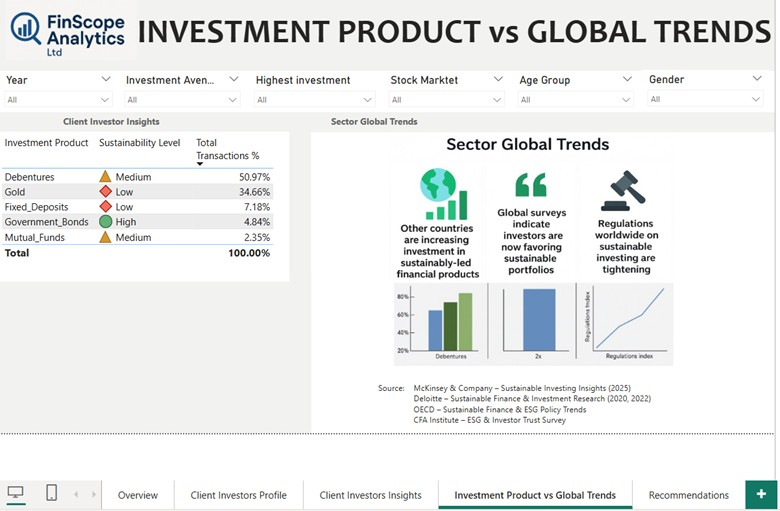

The page's visual inventory and layout, read from the dashboard file:
{"tool":"powerbi","page":{"name":"Investment Product vs Global Trends","canvas":[1280,720],"ordinal":3},"visuals":[{"type":"textbox","box":[0,0,1280,122.9],"z":0},{"type":"image","box":[0,0,301.4,110],"z":1000},{"type":"slicer","fields":{"Values":["finance_project finance_trends.Year"]},"box":[0,122.9,198.6,87.1],"z":2000},{"type":"slicer","fields":{"Values":["finance_project finance_trends.Highest_investment"]},"box":[411.4,122.9,220,77.1],"z":3000},{"type":"slicer","fields":{"Values":["finance_project finance_trends.Investment_Avenues"]},"box":[197.1,122.9,211.4,87.1],"z":4000},{"type":"slicer","fields":{"Values":["finance_project finance_trends.Stock_Marktet"]},"box":[632.9,122.9,211.4,77.1],"z":5000},{"type":"textbox","box":[0,455.7,515.7,264.3],"z":6000},{"type":"textbox","box":[0,190.5,1280,32.7],"z":7000},{"type":"slicer","fields":{"Values":["finance_project finance_trends.Age Group"]},"box":[845.7,122.9,211.4,67.1],"z":8000},{"type":"slicer","fields":{"Values":["finance_project finance_trends.gender"]},"box":[1060,121.4,211.4,68.6],"z":9000},{"type":"tableEx","fields":{"Values":["finance_project investment_products.Investment_Product","finance_project investment_products.Sustainability_Level","finance_project customer_investment.TotalTransactions"]},"box":[0,222.9,480,247.1],"z":10000},{"type":"textbox","box":[480,222.9,35.7,232.9],"z":11000},{"type":"image","box":[572.9,222.9,620,408.6],"z":12000},{"type":"textbox","box":[621.4,631.4,521.4,87.1],"z":13000}]}

Visuals, with their boxes on the page's 1280x720 design canvas (x1, y1, x2, y2). These are canvas units, not pixel positions in the 780x511 screenshot, which may show the page scaled, cropped or inside an application window:
textbox: {"x1": 0, "y1": 0, "x2": 1280, "y2": 123}
image: {"x1": 0, "y1": 0, "x2": 301, "y2": 110}
slicer - finance_project finance_trends.Year: {"x1": 0, "y1": 123, "x2": 199, "y2": 210}
slicer - finance_project finance_trends.Highest_investment: {"x1": 411, "y1": 123, "x2": 631, "y2": 200}
slicer - finance_project finance_trends.Investment_Avenues: {"x1": 197, "y1": 123, "x2": 408, "y2": 210}
slicer - finance_project finance_trends.Stock_Marktet: {"x1": 633, "y1": 123, "x2": 844, "y2": 200}
textbox: {"x1": 0, "y1": 456, "x2": 516, "y2": 720}
textbox: {"x1": 0, "y1": 190, "x2": 1280, "y2": 223}
slicer - finance_project finance_trends.Age Group: {"x1": 846, "y1": 123, "x2": 1057, "y2": 190}
slicer - finance_project finance_trends.gender: {"x1": 1060, "y1": 121, "x2": 1271, "y2": 190}
tableEx - finance_project investment_products.Investment_Product x finance_project investment_products.Sustainability_Level: {"x1": 0, "y1": 223, "x2": 480, "y2": 470}
textbox: {"x1": 480, "y1": 223, "x2": 516, "y2": 456}
image: {"x1": 573, "y1": 223, "x2": 1193, "y2": 632}
textbox: {"x1": 621, "y1": 631, "x2": 1143, "y2": 718}
